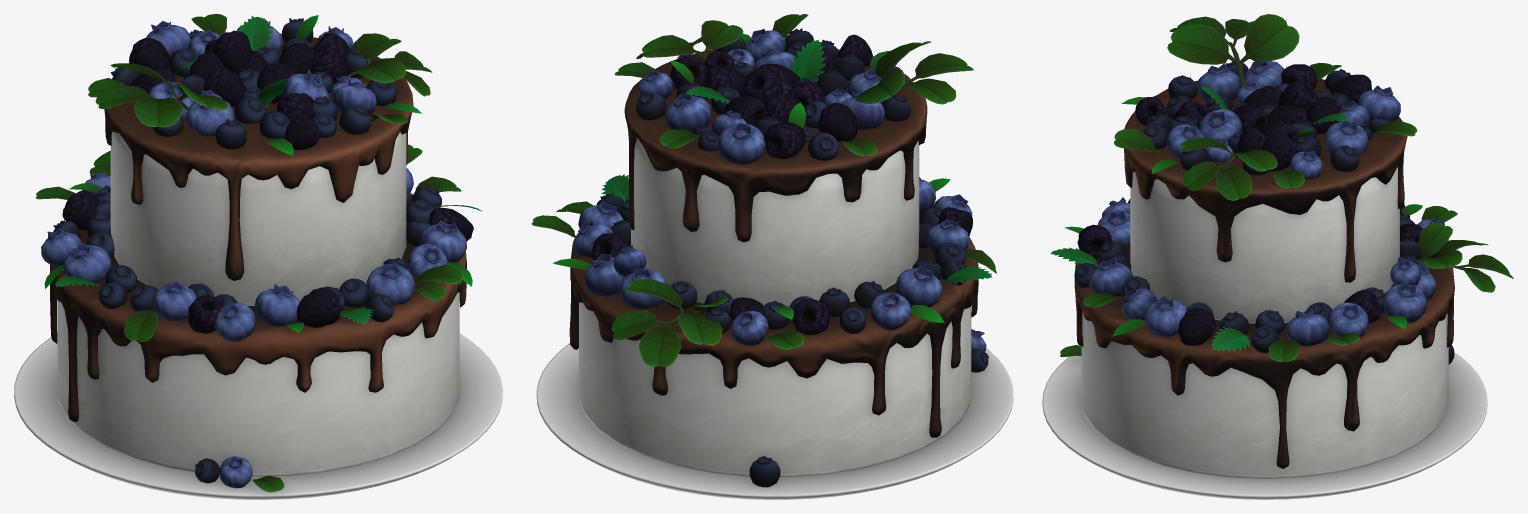
File: mrk6564obj.glb
3 renders of one model, left to right at view 1: azimuth 30°, elevation 25°; view 2: azimuth 150°, elevation 25°; view 3: azimuth 270°, elevation 25°, orthographic. The views are drawn at different scales.
Parts seen in each view (by area): view 1: 1st floor, 2nd floor, Plate, 2, 1, Plane.006, Plane.007, Cube.004, Cube.018, Cube.022, raspberry.011, Cube.021 (+39 smaller); view 2: 1st floor, 2nd floor, Plate, 2, 1, Plane.008, Plane.006, Plane.007, Cube.026, Cube.004, Cube.012, raspberry.002 (+36 smaller); view 3: 1st floor, 2nd floor, Plate, 2, 1, Plane.006, Plane.007, Plane.008, Cube.006, Cube.015, Cube.013, raspberry.010 (+32 smaller).
Part boxes in pixels (left/top/right/bottom): 1st floor: left=57, top=292, right=459, bottom=476; 2nd floor: left=110, top=131, right=406, bottom=305; Plate: left=14, top=333, right=502, bottom=499; 2: left=50, top=193, right=466, bottom=421; 1: left=104, top=32, right=413, bottom=280; Plane.006: left=95, top=63, right=227, bottom=127; Plane.007: left=347, top=36, right=432, bottom=96; Cube.004: left=63, top=243, right=111, bottom=285; Cube.018: left=255, top=283, right=300, bottom=326; Cube.022: left=366, top=263, right=414, bottom=305; raspberry.011: left=296, top=287, right=341, bottom=327; Cube.021: left=153, top=281, right=196, bottom=320; 1st floor: left=579, top=302, right=971, bottom=476; 2nd floor: left=631, top=138, right=919, bottom=306; Plate: left=536, top=343, right=1013, bottom=499; 2: left=569, top=204, right=978, bottom=437; 1: left=624, top=49, right=927, bottom=242; Plane.008: left=611, top=279, right=722, bottom=366; Plane.006: left=855, top=41, right=973, bottom=104; Plane.007: left=636, top=20, right=743, bottom=60; Cube.026: left=718, top=122, right=765, bottom=164; Cube.004: left=895, top=266, right=942, bottom=307; Cube.012: left=665, top=93, right=711, bottom=131; raspberry.002: left=764, top=122, right=805, bottom=158; 1st floor: left=1081, top=312, right=1448, bottom=478; 2nd floor: left=1130, top=167, right=1399, bottom=323; Plate: left=1042, top=352, right=1487, bottom=499; 2: left=1074, top=246, right=1454, bottom=468; 1: left=1124, top=79, right=1407, bottom=282; Plane.006: left=1167, top=14, right=1299, bottom=87; Plane.007: left=1180, top=137, right=1277, bottom=200; Plane.008: left=1416, top=240, right=1513, bottom=292; Cube.006: left=1383, top=282, right=1427, bottom=322; Cube.015: left=1144, top=295, right=1187, bottom=337; Cube.013: left=1285, top=307, right=1329, bottom=346; raspberry.010: left=1178, top=307, right=1216, bottom=345.
Bounding box in the file's own units: 3.69 × 3.08 × 3.9.
Materials: 2 (2 with a texture image).
